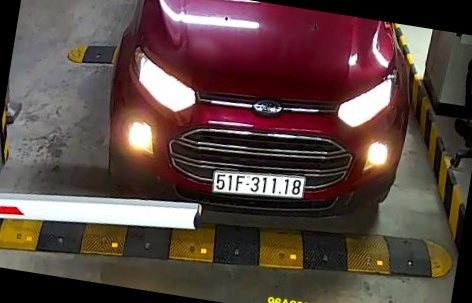plate: (201, 157, 311, 211)
